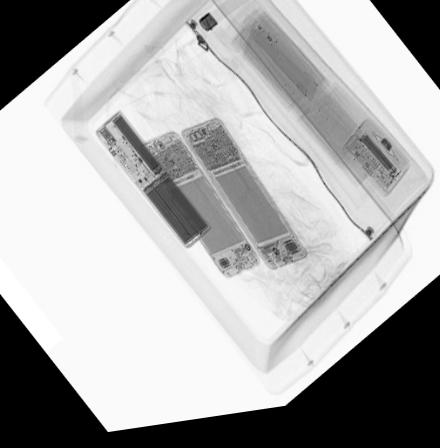Powerbank: (94, 114, 210, 255)
